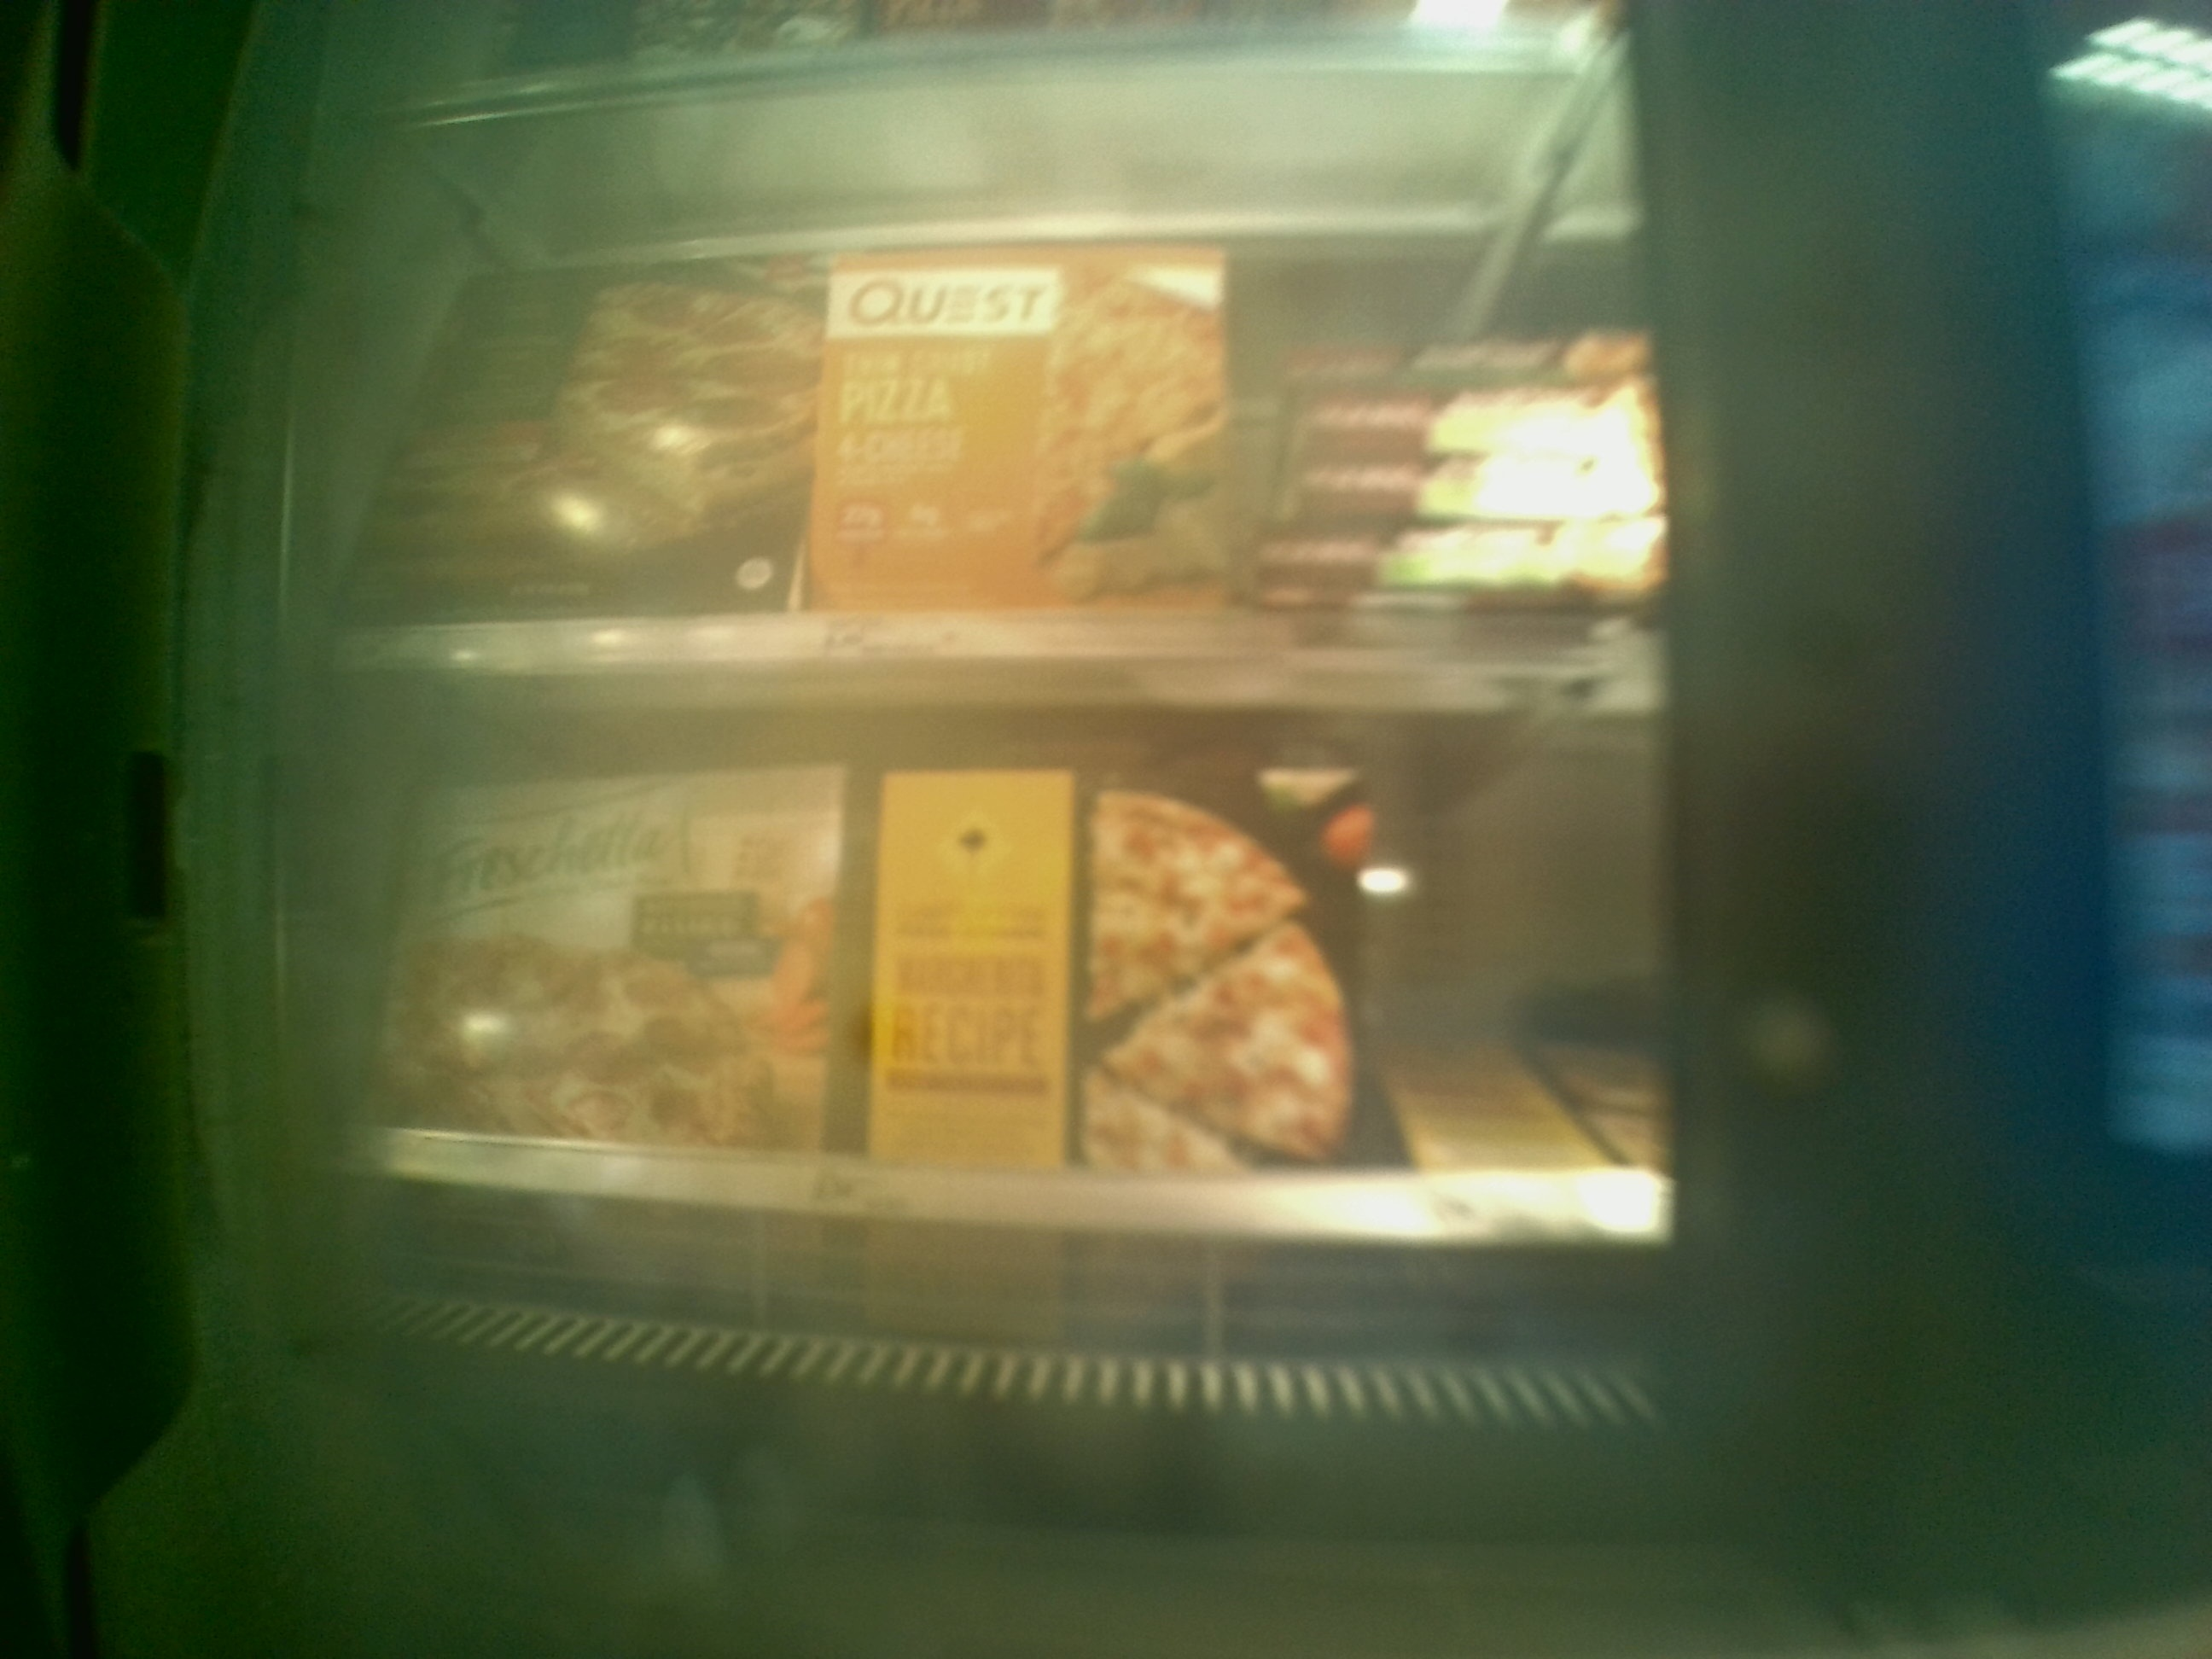shelf: (343, 653, 1689, 1391)
